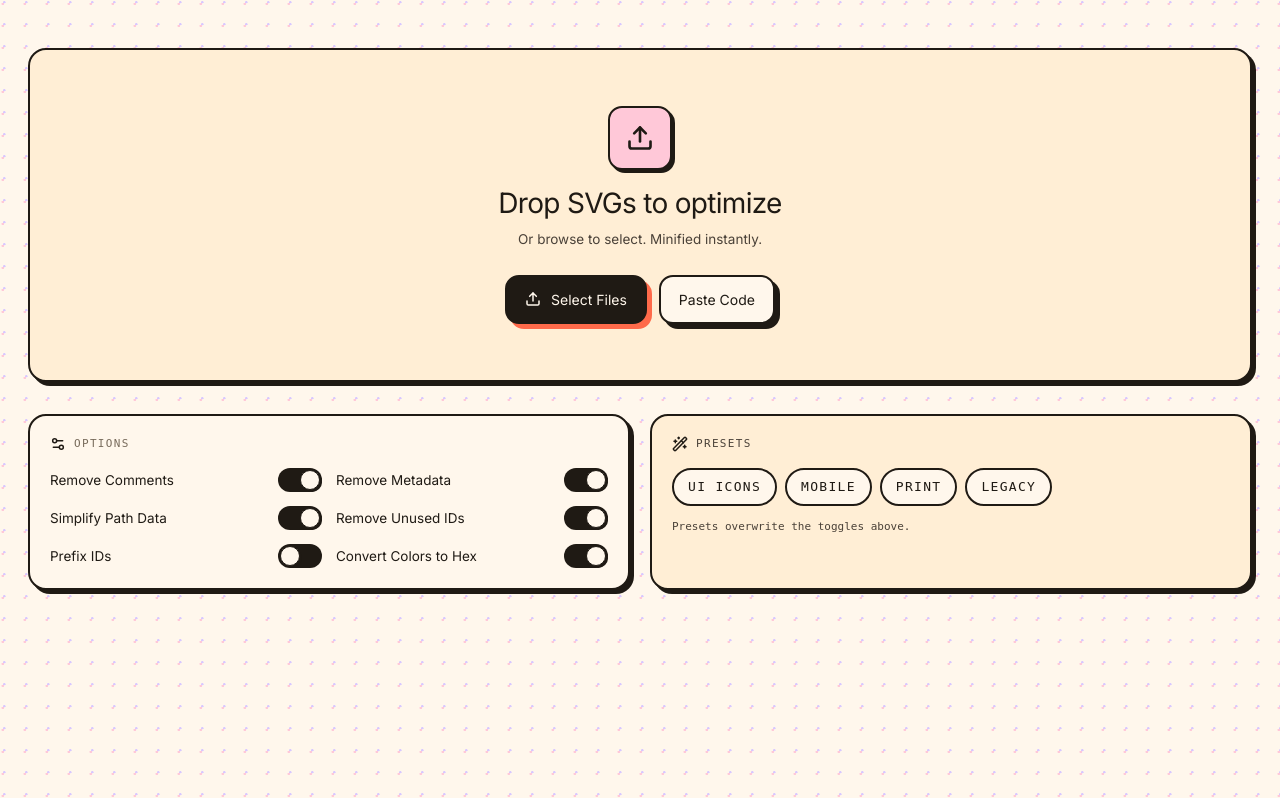
Test: SvgOptimizerRoute › toggles paste area on Paste Code click
Step 1. Click the button "Paste Code" → (717, 299), box [659,275,775,324]
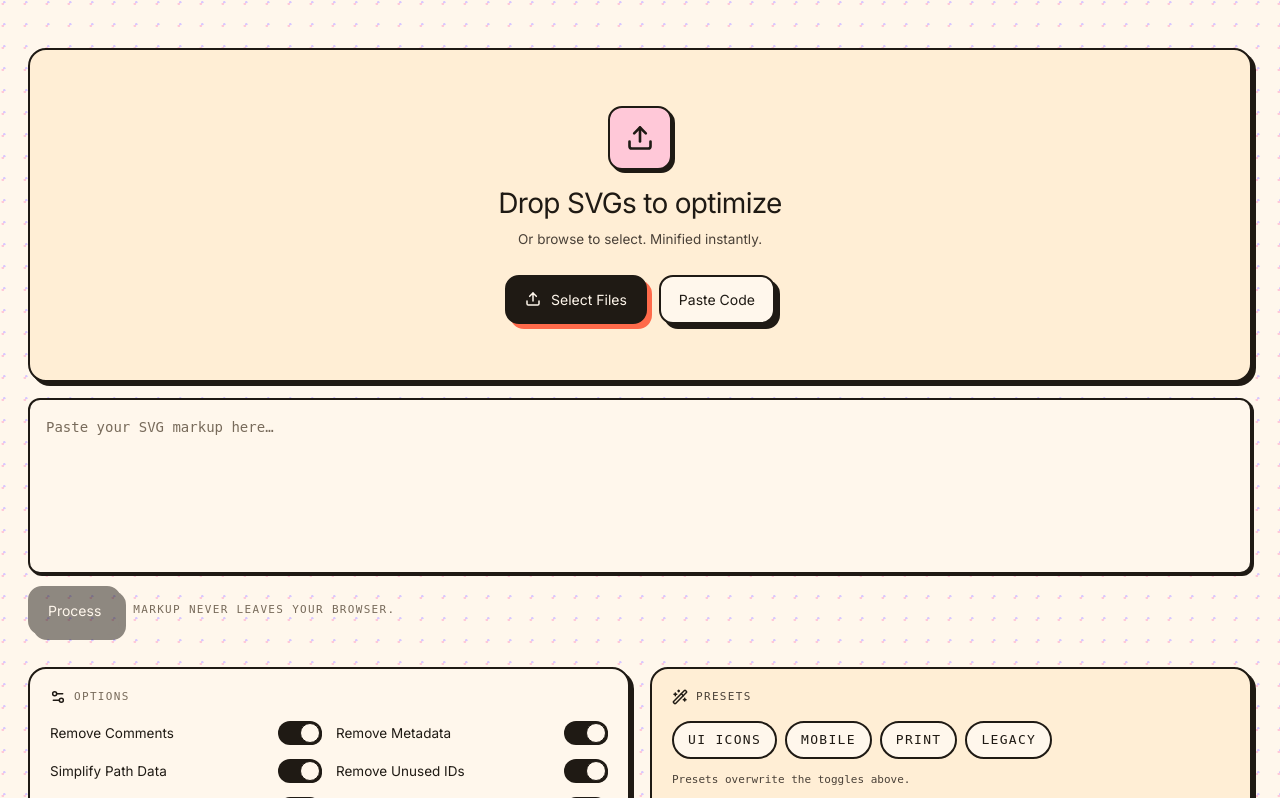
Result: the text box with test id "paste-textarea" is shown at [28,398,1252,574]
Step 2. Click the button "Paste Code" → (717, 299), box [659,275,775,324]
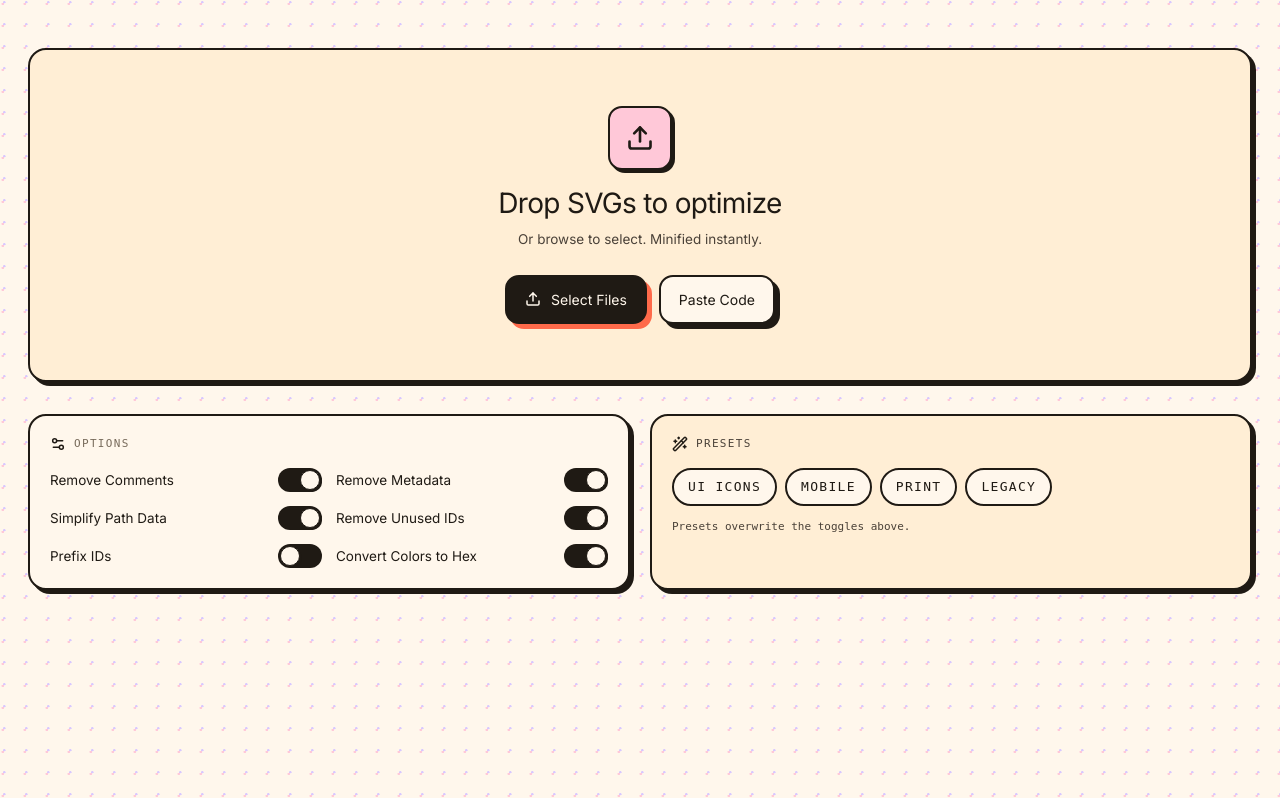
Result: the text box with test id "paste-textarea" is gone
